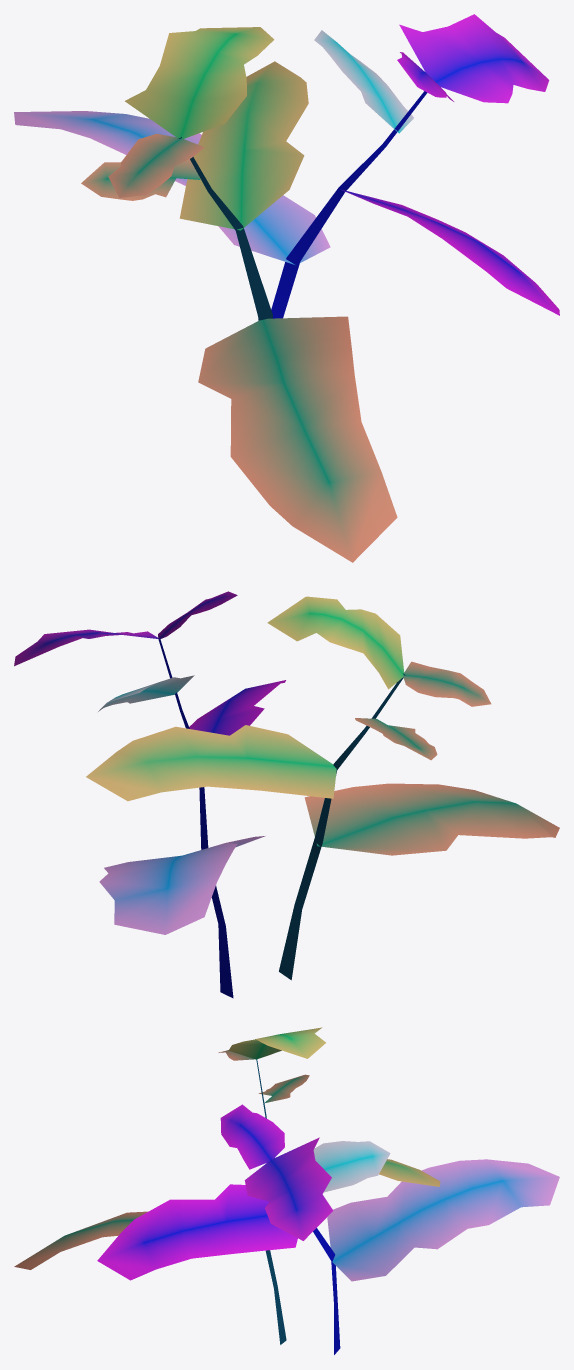
File: Black_Locust_wdvhberja_Mid_wdvhberja_VarF_LOD2.fbx
3 renders of one model, top to bottom at view 1: azimuth 30°, elevation 25°; view 2: azimuth 150°, elevation 25°; view 3: azimuth 270°, elevation 25°, orthographic. The views are drawn at different scales.
Visible parts, largest first — view 1: _ecmv_VarF_LOD3; view 2: _ecmv_VarF_LOD3; view 3: _ecmv_VarF_LOD3.
Part boxes in pixels (<box>): _ecmv_VarF_LOD3: <box>14,14,559,562</box>; _ecmv_VarF_LOD3: <box>14,591,559,998</box>; _ecmv_VarF_LOD3: <box>14,1027,559,1354</box>.
Bounding box in the file's own units: 20.46 × 17.03 × 28.67.
